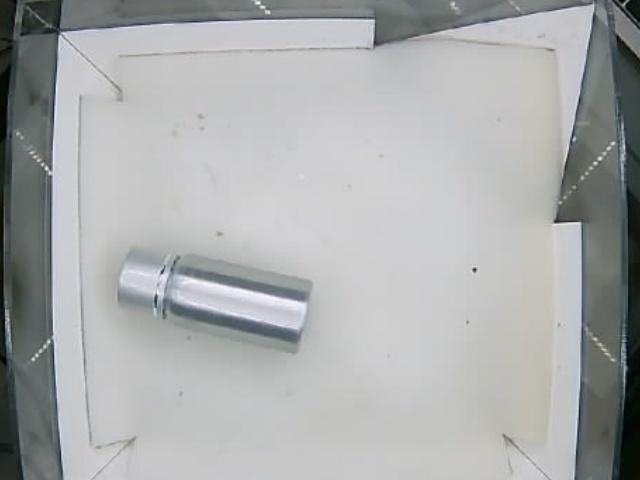Bottle: (115, 244, 314, 355)
